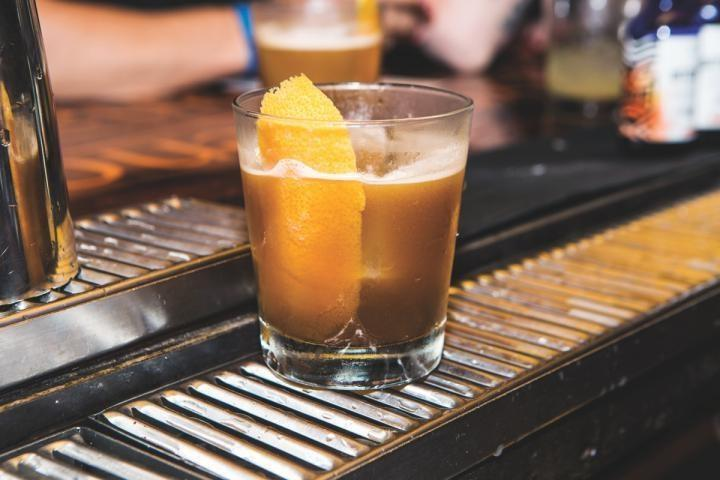glass-normal: (228, 75, 475, 393)
